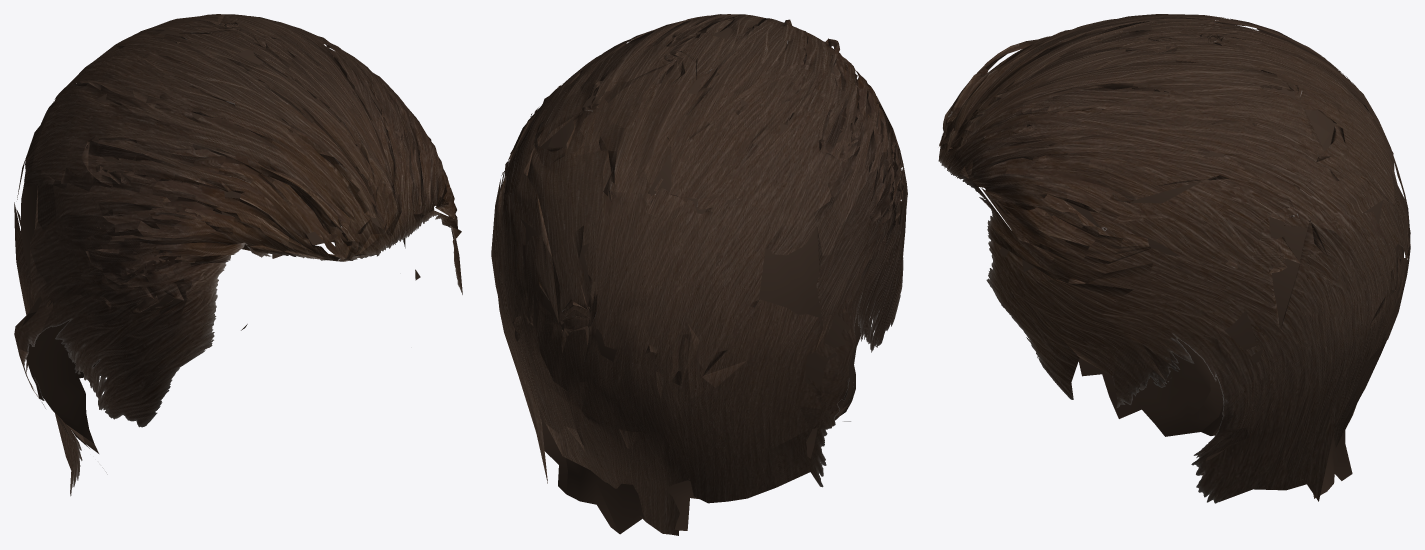
The model's file is Hair_SlickedBack.glb.
3 views of the same model, side by side, from view 1: azimuth 30°, elevation 25°; view 2: azimuth 150°, elevation 25°; view 3: azimuth 270°, elevation 25° (orthographic). The views are drawn at different scales.
Visible parts, largest first — view 1: HairMesh; view 2: HairMesh; view 3: HairMesh.
Part boxes in pixels (x1,y1,x2,y2): HairMesh: [14, 14, 462, 496]; HairMesh: [491, 14, 907, 535]; HairMesh: [938, 14, 1410, 503].
Bounding box in the file's own units: 0.1722 × 0.199 × 0.191.
1 material, 1 textured.
